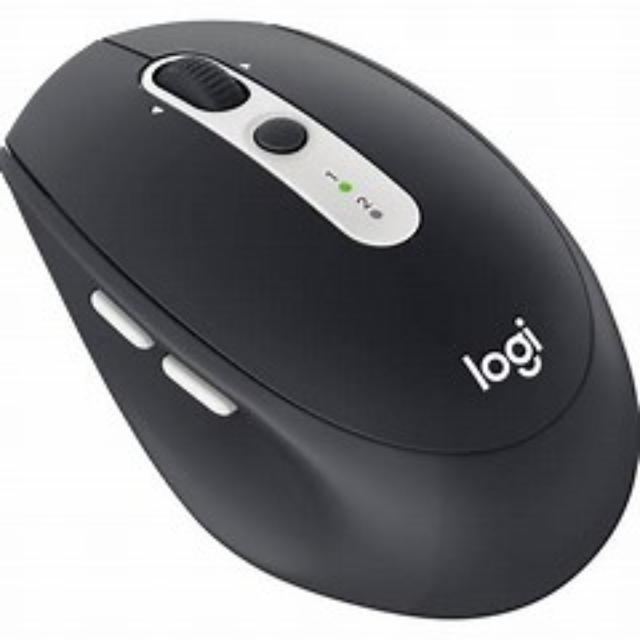Computer-Mouse: (0, 19, 640, 621)
